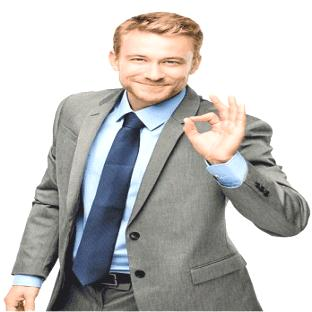Human: (5, 12, 309, 310)
